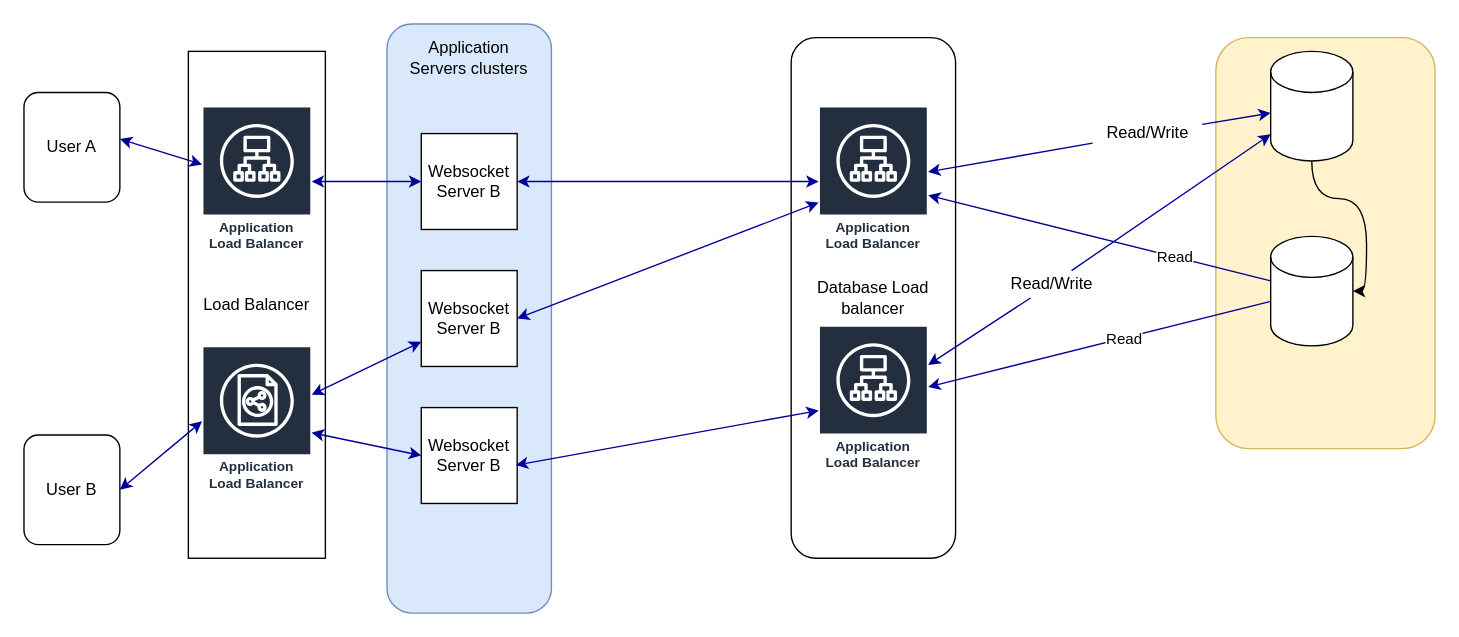
The diagram is 1459 pixels wide and 637 high, and some of its shapes have lost their labels. The centre of each missing label's shape, as x and y in pixels:
Session Main DB: point (1311, 105)
Session Read Replica: point (1311, 290)
